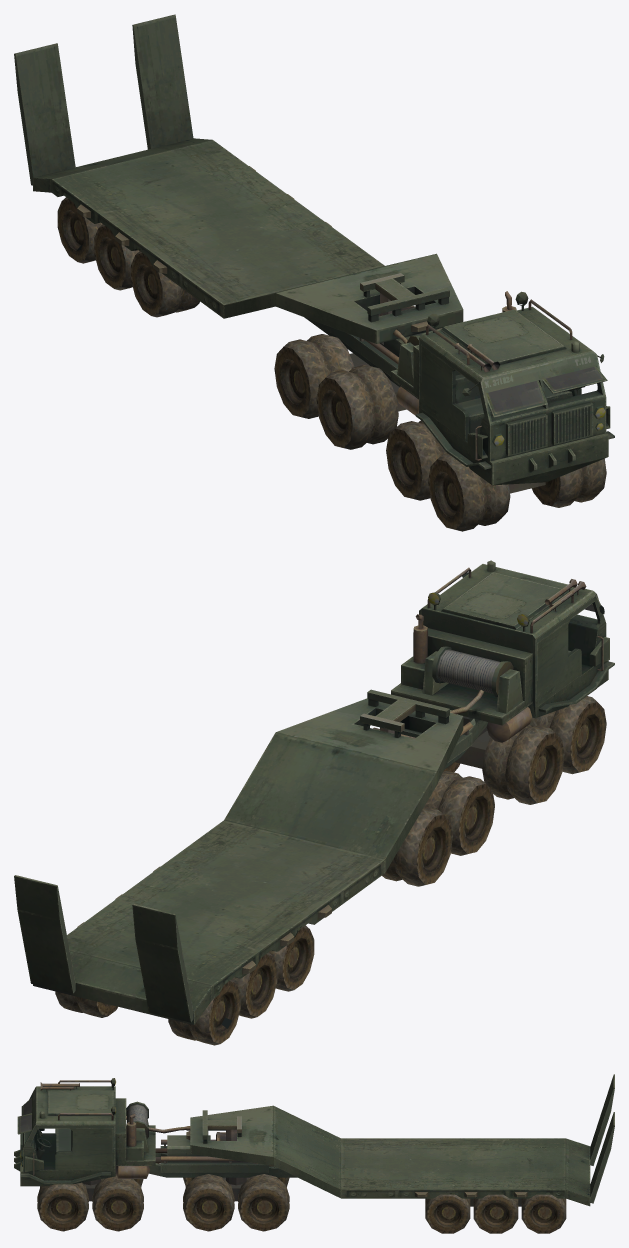
File: Army Truck.fbx
3 views of the same model, one above another, from view 1: azimuth 30°, elevation 25°; view 2: azimuth 150°, elevation 25°; view 3: azimuth 270°, elevation 25° (orthographic). The views are drawn at different scales.
Parts seen in each view (by area): view 1: VEHICLE_Army Truck; view 2: VEHICLE_Army Truck; view 3: VEHICLE_Army Truck.
Boxes of the visible parts, box(x1,y1,x2,y2) form: VEHICLE_Army Truck: box(14, 14, 614, 531); VEHICLE_Army Truck: box(14, 560, 614, 1045); VEHICLE_Army Truck: box(14, 1074, 614, 1233).
Bounding box in the file's own units: 149 × 150 × 687.
